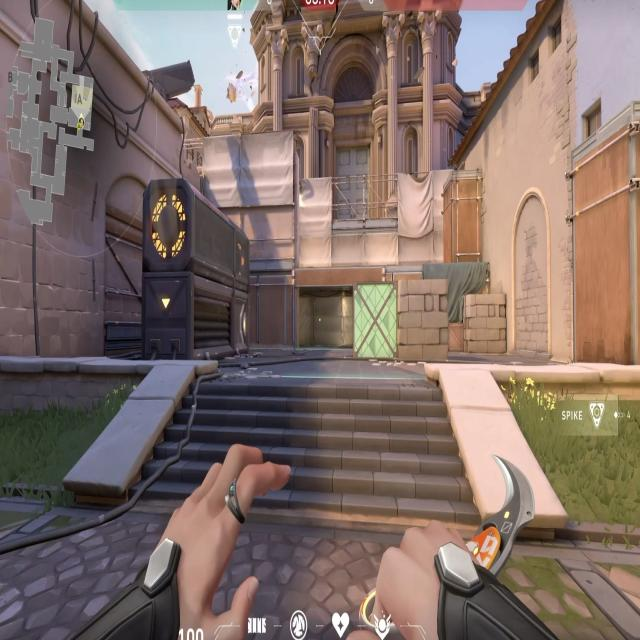A_Heaven_Box: (439, 162, 494, 272)
A_Heaven_Wall: (204, 123, 312, 260)
A_Hell: (286, 260, 365, 353)
A_Site_Box: (346, 272, 459, 368)
